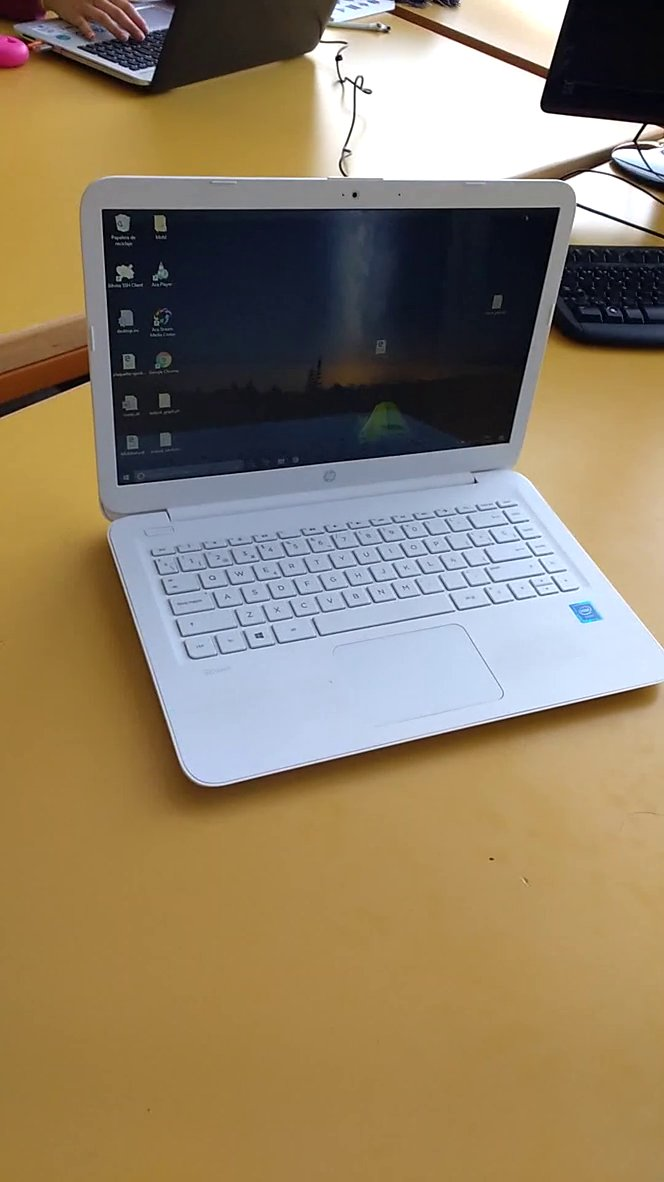laptop: (71, 167, 664, 805)
